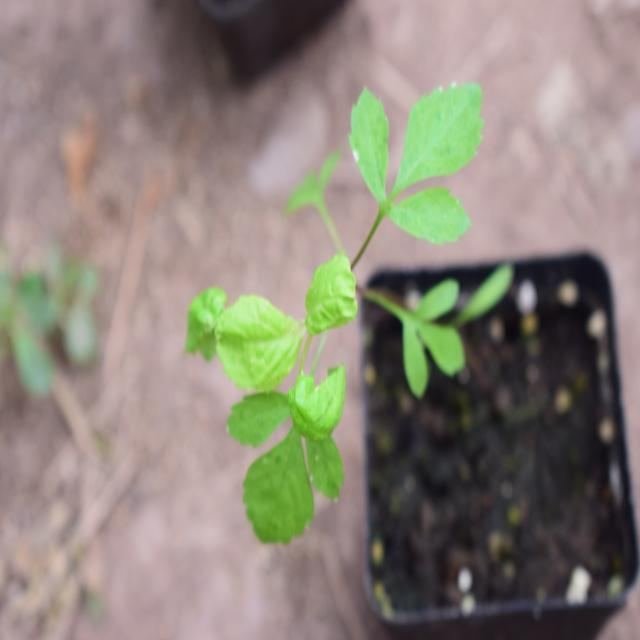Bidens pilosa: (185, 72, 495, 550)
